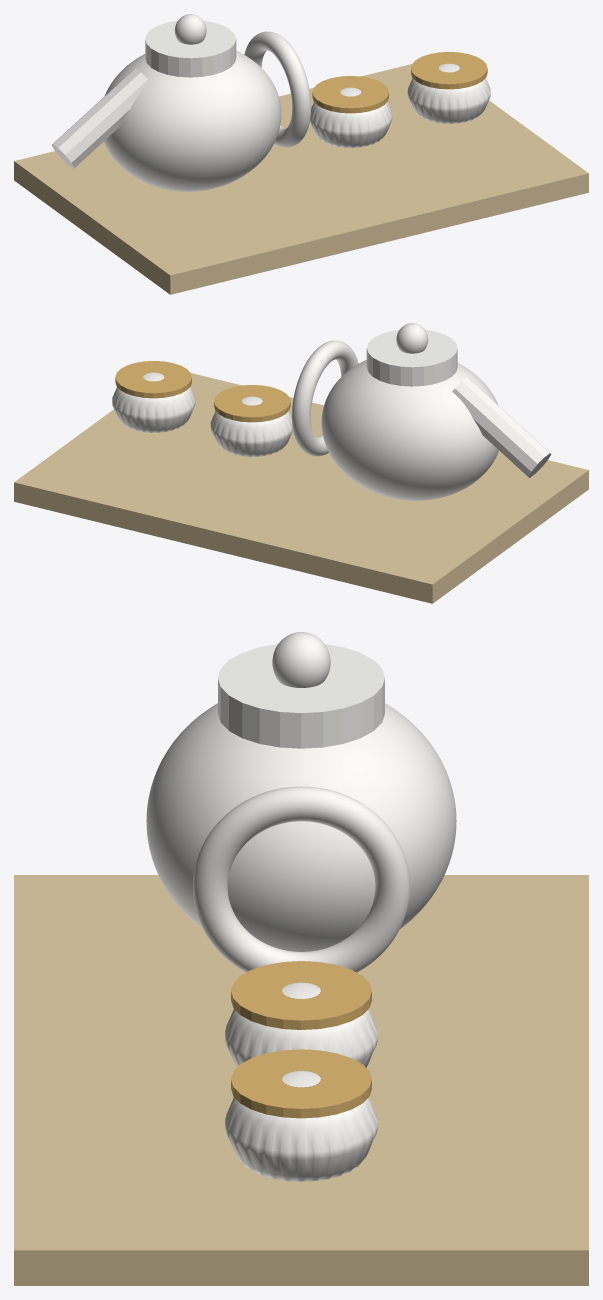
The model's file is tea_set.glb.
3 renders of one model, top to bottom at view 1: azimuth 30°, elevation 25°; view 2: azimuth 150°, elevation 25°; view 3: azimuth 270°, elevation 25°, orthographic. The views are drawn at different scales.
Parts seen in each view (by area): view 1: TeaSet_Tray, Teapot_Body, Teapot_Lid, Teapot_Spout, Teapot_Handle, Teacup_1_Body, Teacup_0_Body, Teacup_0_Tea, Teacup_1_Tea, Teapot_Knob; view 2: TeaSet_Tray, Teapot_Body, Teapot_Lid, Teapot_Spout, Teapot_Handle, Teacup_1_Body, Teacup_0_Body, Teacup_0_Tea, Teacup_1_Tea, Teapot_Knob; view 3: TeaSet_Tray, Teapot_Body, Teapot_Handle, Teapot_Lid, Teacup_1_Body, Teacup_0_Tea, Teacup_1_Tea, Teacup_0_Body, Teapot_Knob.
Part boxes in pixels (x1,y1,x2,y2): TeaSet_Tray: [14, 64, 588, 294]; Teapot_Body: [104, 51, 281, 191]; Teapot_Lid: [145, 20, 236, 77]; Teapot_Spout: [51, 68, 150, 168]; Teapot_Handle: [244, 31, 311, 147]; Teacup_1_Body: [407, 63, 490, 123]; Teacup_0_Body: [310, 87, 392, 147]; Teacup_0_Tea: [312, 76, 388, 113]; Teacup_1_Tea: [411, 52, 487, 89]; Teapot_Knob: [174, 14, 206, 44]; TeaSet_Tray: [14, 373, 588, 603]; Teapot_Body: [321, 360, 498, 500]; Teapot_Lid: [366, 329, 457, 386]; Teapot_Spout: [452, 377, 551, 477]; Teapot_Handle: [291, 340, 358, 456]; Teacup_1_Body: [112, 372, 195, 432]; Teacup_0_Body: [210, 396, 292, 456]; Teacup_0_Tea: [214, 385, 290, 422]; Teacup_1_Tea: [115, 361, 191, 398]; Teapot_Knob: [396, 323, 428, 353]; TeaSet_Tray: [14, 875, 588, 1285]; Teapot_Body: [146, 703, 456, 951]; Teapot_Handle: [193, 786, 409, 972]; Teapot_Lid: [218, 644, 384, 748]; Teacup_1_Body: [225, 1071, 377, 1181]; Teacup_0_Tea: [231, 961, 371, 1029]; Teacup_1_Tea: [231, 1049, 371, 1118]; Teacup_0_Body: [225, 982, 377, 1067]; Teapot_Knob: [272, 632, 330, 687].
Size of the model in its own units: 0.3698 by 0.1537 by 0.22.
